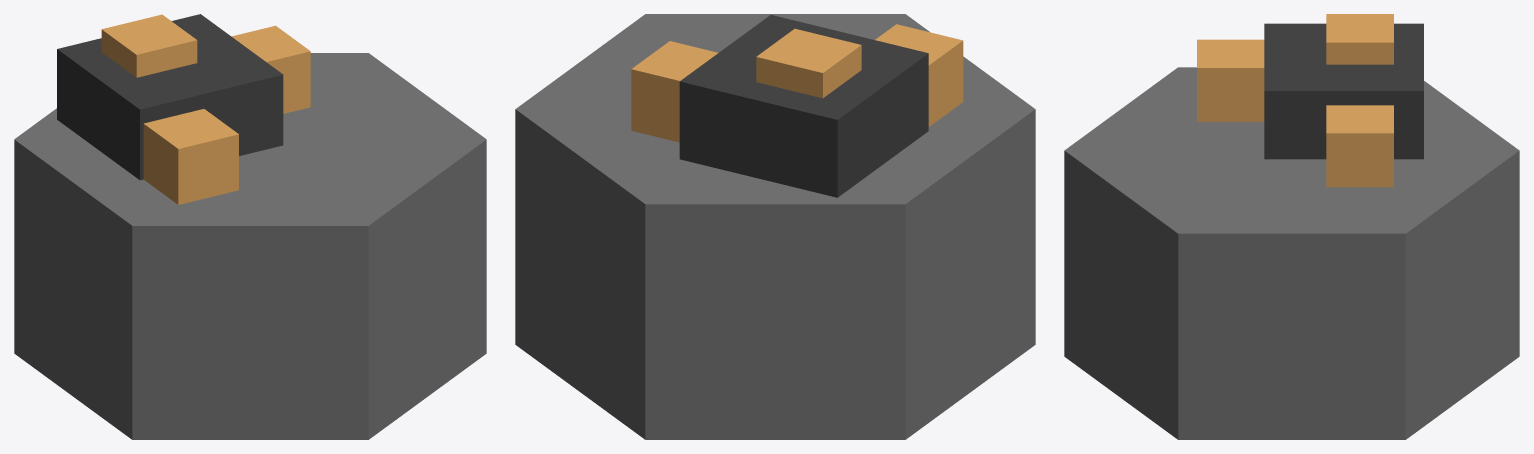
File: TownV1.fbx
3 renders of one model, left to right at view 1: azimuth 30°, elevation 25°; view 2: azimuth 150°, elevation 25°; view 3: azimuth 270°, elevation 25°, orthographic. The views are drawn at different scales.
Parts seen in each view (by area): view 1: Circle, Cube, Cube.002, Cube.003, Cube.001; view 2: Circle, Cube, Cube.003, Cube.001, Cube.002; view 3: Circle, Cube, Cube.001, Cube.002, Cube.003.
Part boxes in pixels (<box>): Circle: <box>14,53,486,439</box>; Cube: <box>57,14,283,180</box>; Cube.002: <box>143,109,238,204</box>; Cube.003: <box>101,14,197,77</box>; Cube.001: <box>231,25,310,113</box>; Circle: <box>515,14,1035,439</box>; Cube: <box>679,15,928,197</box>; Cube.003: <box>756,28,861,98</box>; Cube.001: <box>631,41,718,142</box>; Cube.002: <box>875,24,963,126</box>; Circle: <box>1064,67,1519,439</box>; Cube: <box>1264,23,1423,159</box>; Cube.001: <box>1326,105,1393,187</box>; Cube.002: <box>1197,39,1264,121</box>; Cube.003: <box>1326,14,1393,64</box>.
Bounding box in the file's own units: 173 × 144 × 200.
